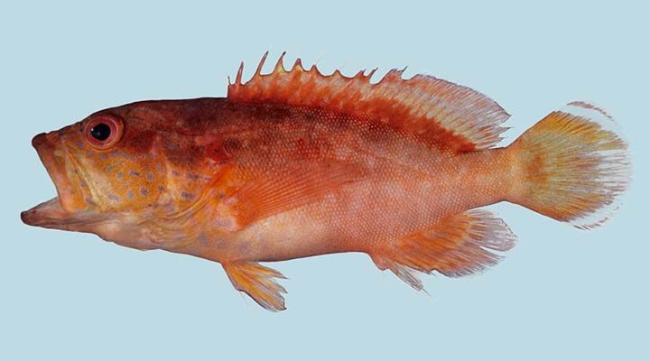fish: (21, 52, 632, 312)
